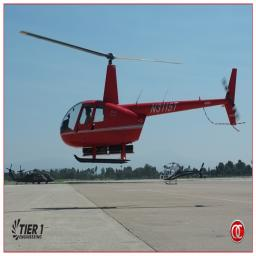helicopter: (19, 29, 247, 168)
